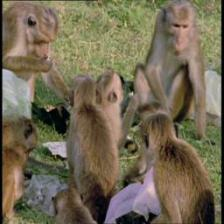monkey: (158, 4, 202, 60), (24, 5, 60, 62), (99, 70, 126, 107), (23, 113, 40, 157)
